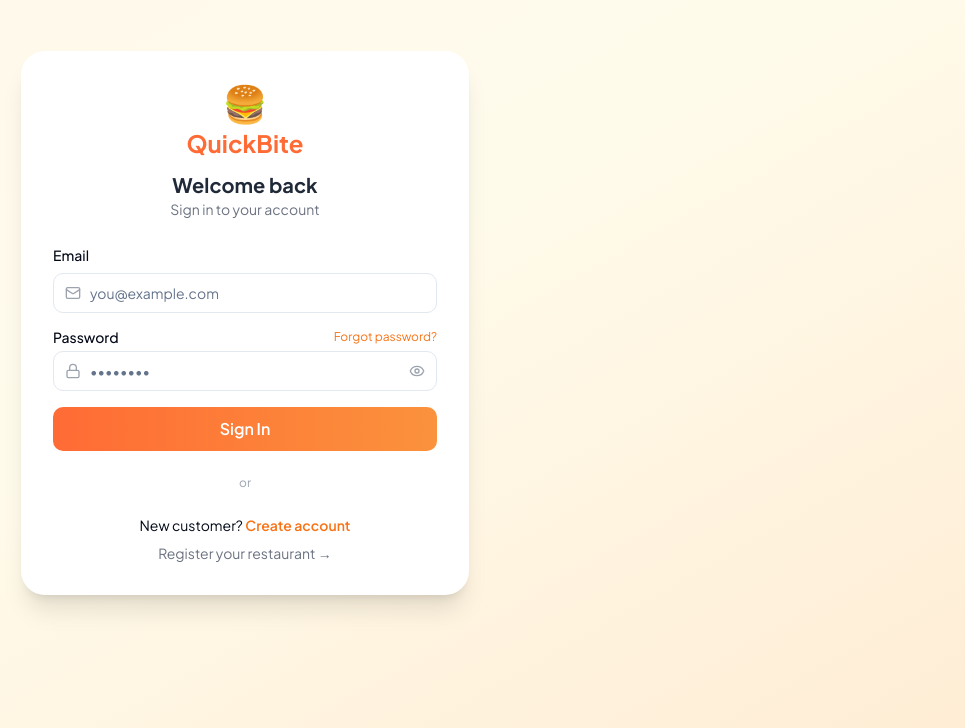
Test: LoginPage › shows error message when login fails with bad credentials
Type "bad@example.com" into the field with test id "email-input".
click(245, 293); type("bad@example.com")  # box top-left (53, 273), bottom-right (437, 313)
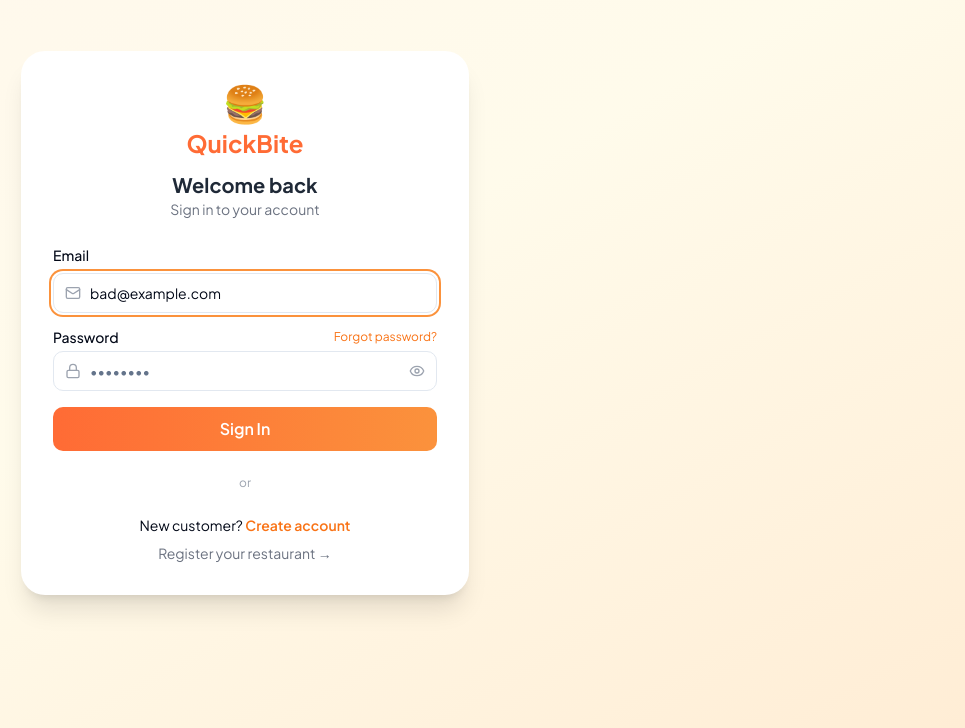
Type "wrongpass" into the password field with test id "password-input".
click(245, 371); type("wrongpass")  # box top-left (53, 351), bottom-right (437, 391)
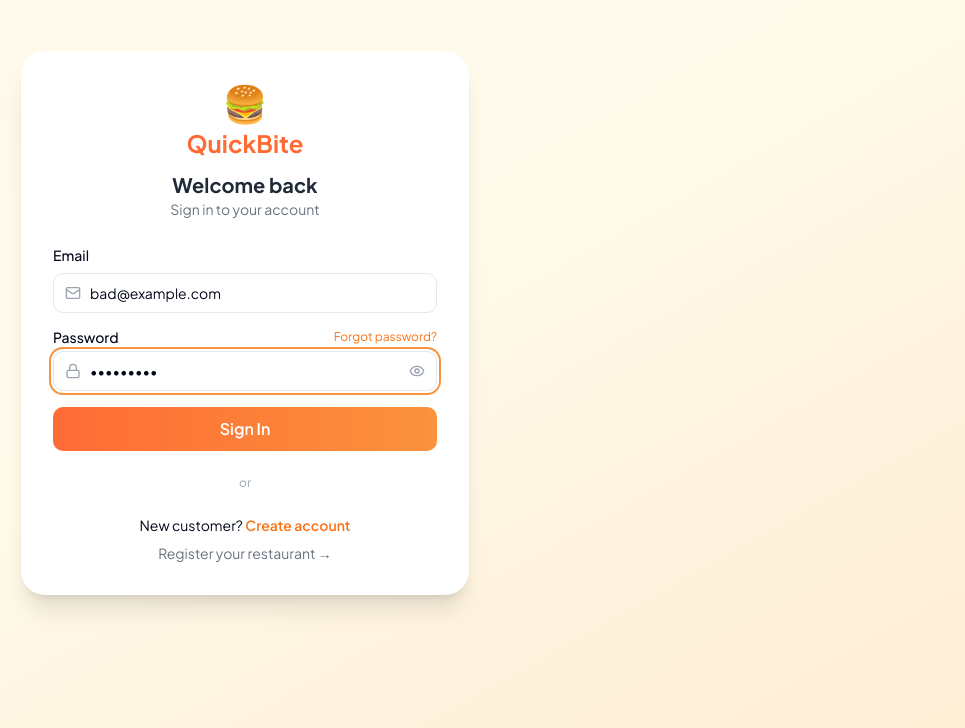
Click the button with test id "submit-btn".
click(245, 429)  # box top-left (53, 407), bottom-right (437, 451)
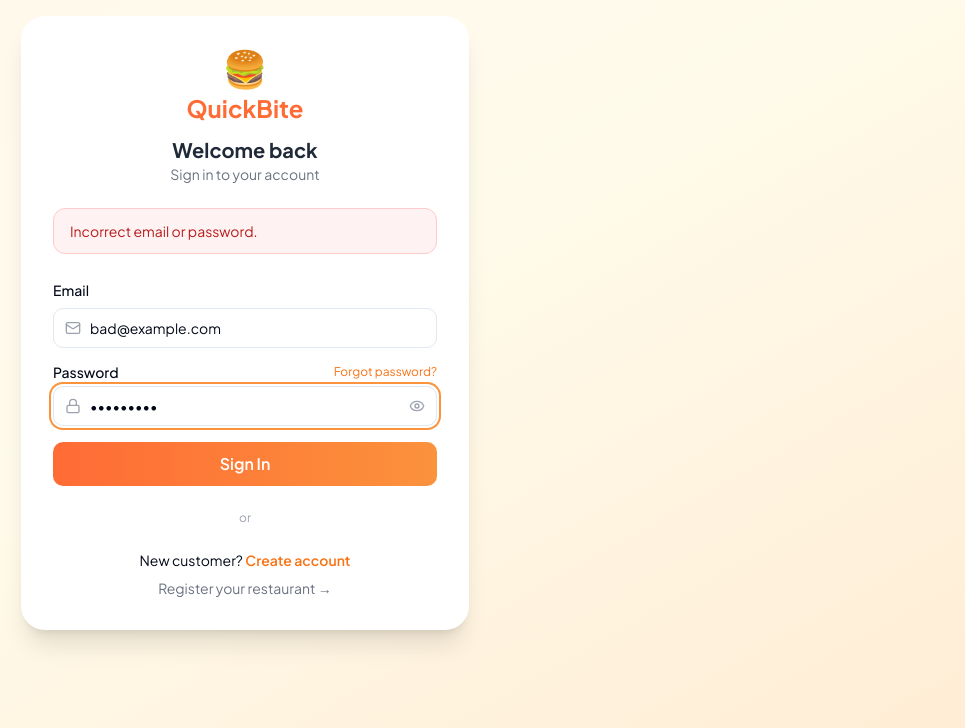
Now the text "Incorrect email or password." is shown, box top-left (53, 208), bottom-right (437, 254)
